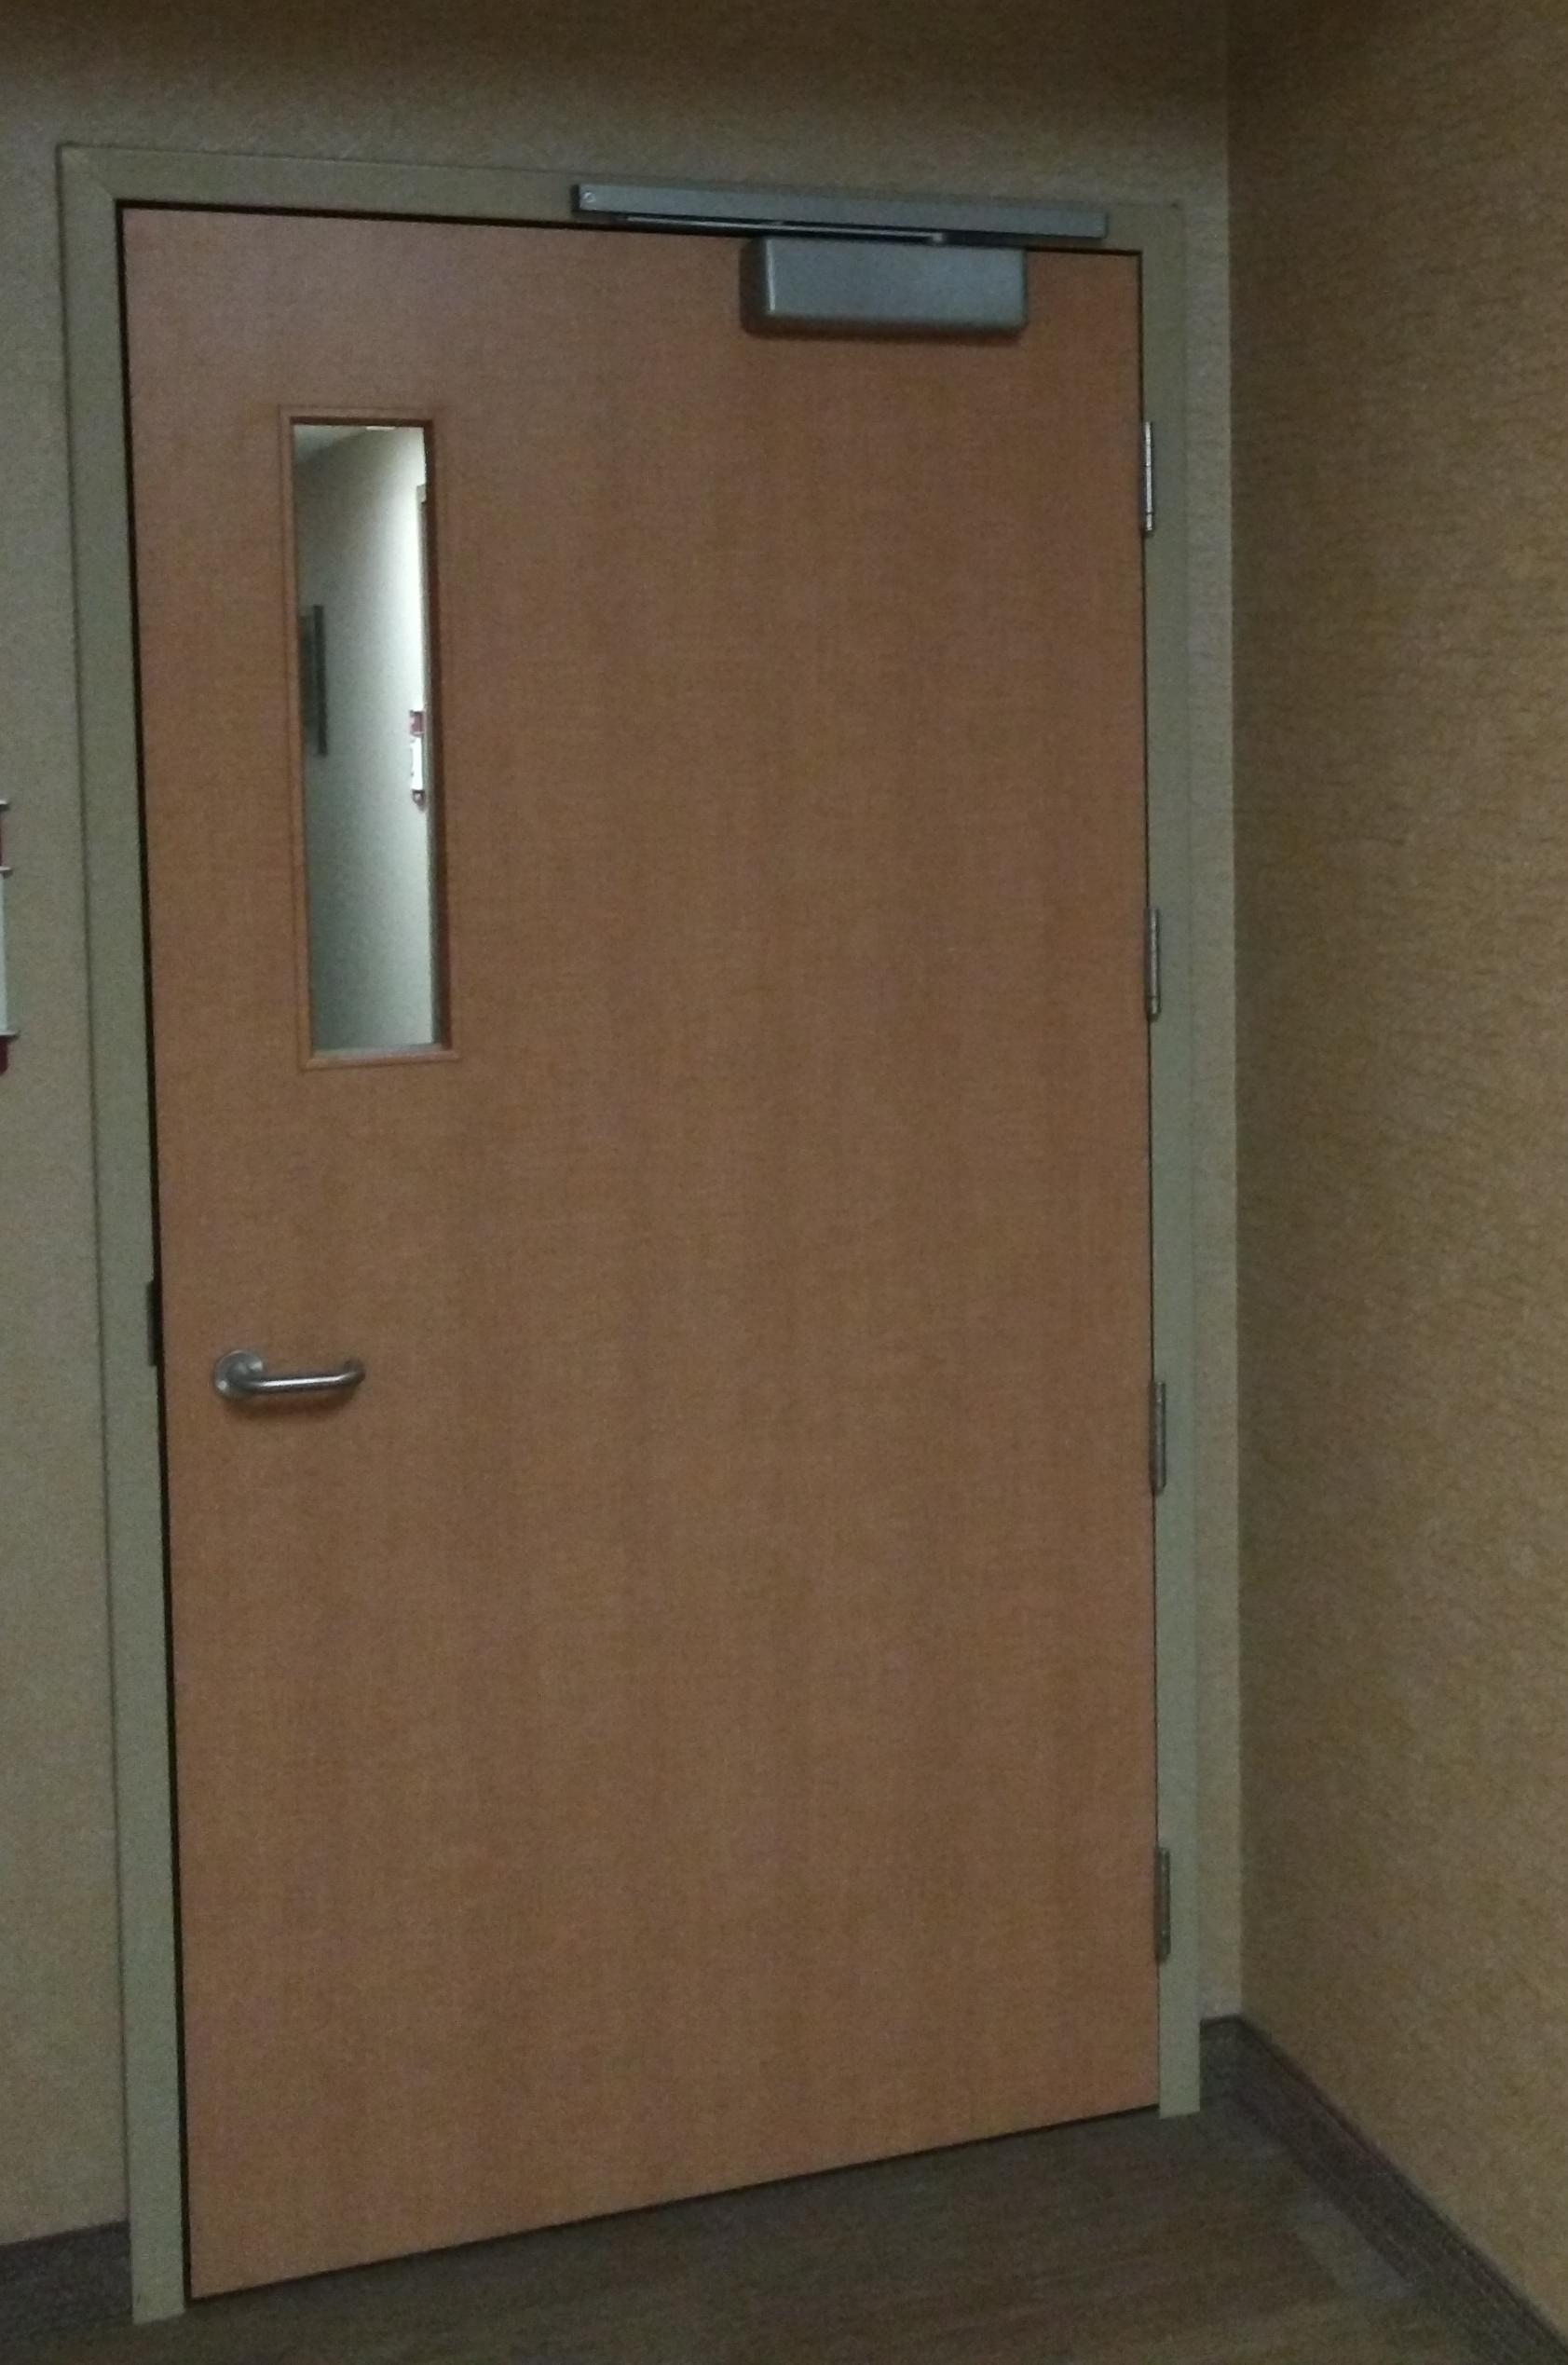door: (56, 135, 1263, 2340)
